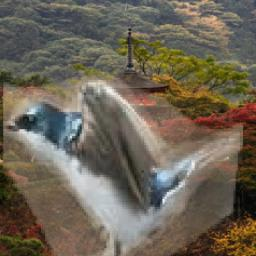Swallow: (4, 73, 244, 256)
